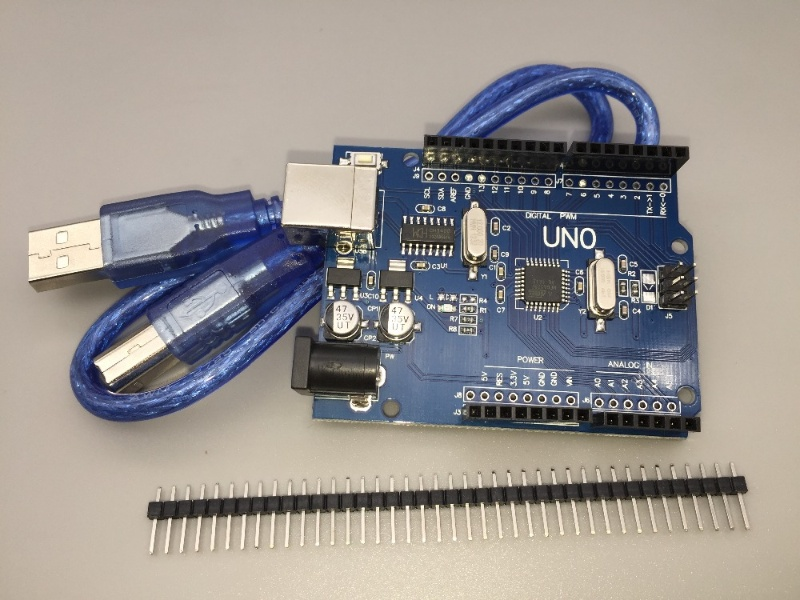uno: (284, 118, 721, 456)
